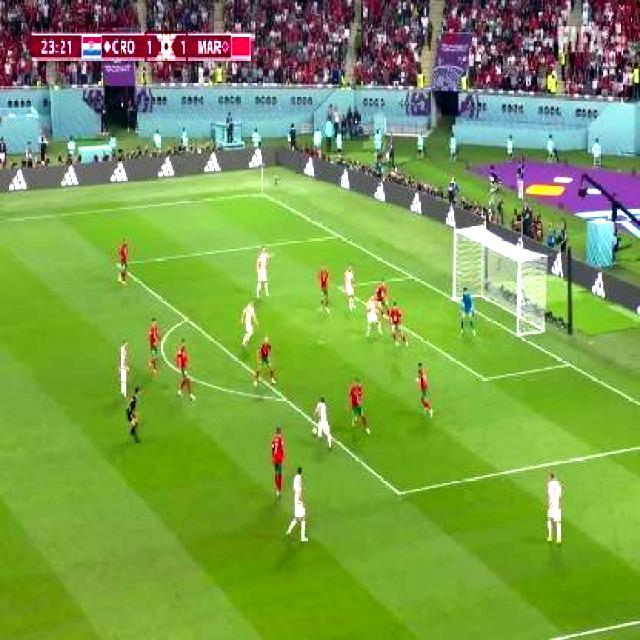bigarea_bottom_inner: (389, 479, 406, 506)
bigarea_top_outter: (332, 230, 342, 242)
bottom_arc_area_intersection: (280, 391, 291, 406)
corner: (257, 191, 266, 197)
smallarea_bottom_inner: (477, 366, 491, 389)
smallarea_bottom_outter: (563, 357, 574, 371)
smallarea_top_outter: (406, 269, 416, 282)
top_arc_area_intersection: (180, 310, 191, 324)
